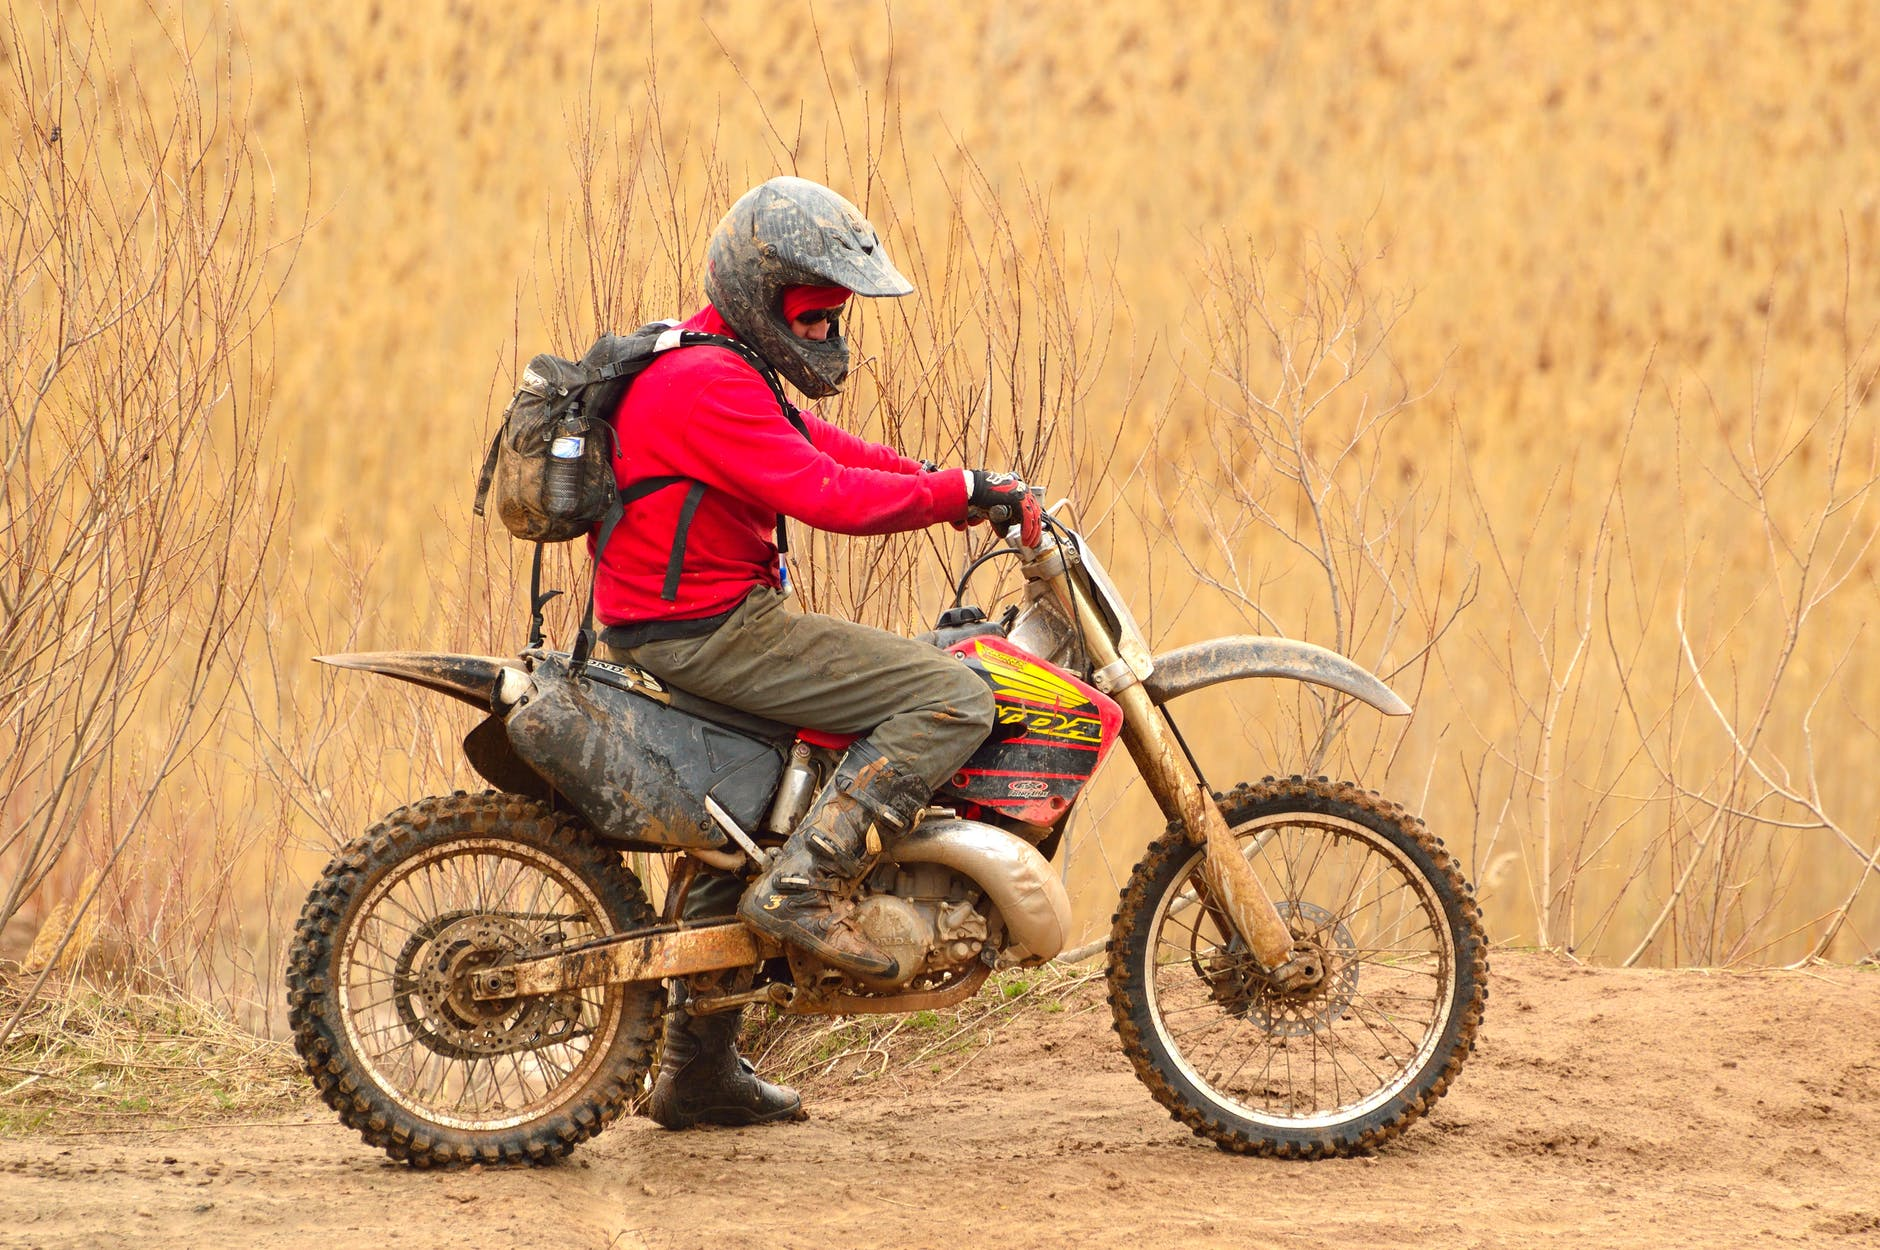helmet: (697, 170, 886, 385)
